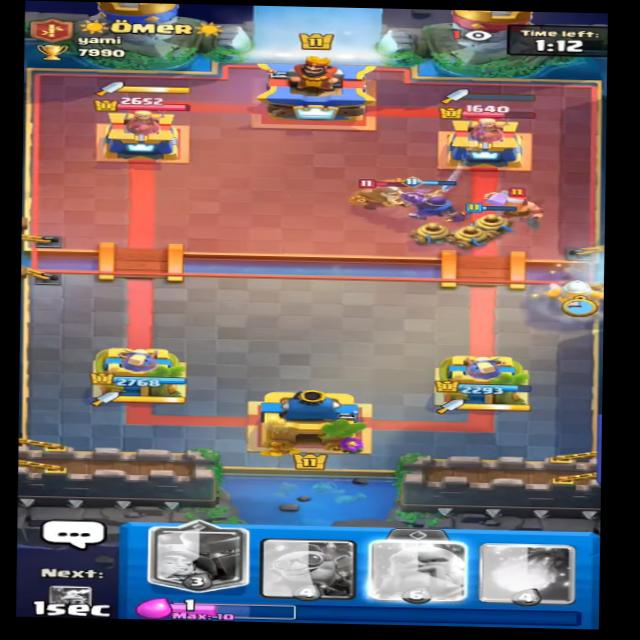lumberjack: (470, 184, 560, 217)
monk: (347, 173, 419, 212)
